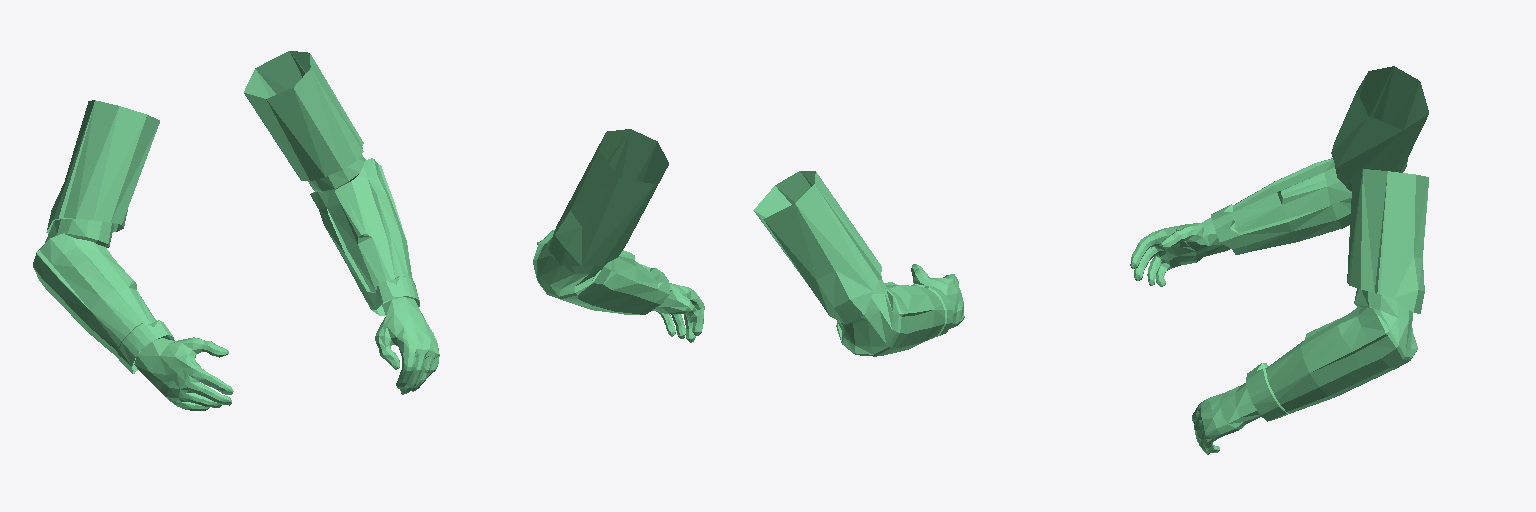
The model's file is v_hands.obj.
The picture shows the model from 3 angles: view 1: azimuth 30°, elevation 25°; view 2: azimuth 150°, elevation 25°; view 3: azimuth 270°, elevation 25°; orthographic projection.
Parts seen in each view (by area): view 1: Hands_reference; view 2: Hands_reference; view 3: Hands_reference.
Part boxes in pixels (left/top/right/bottom): Hands_reference: left=33, top=51, right=439, bottom=410; Hands_reference: left=533, top=129, right=964, bottom=356; Hands_reference: left=1130, top=66, right=1428, bottom=454.
Bounding box in the file's own units: 31.91 × 23.97 × 23.2.